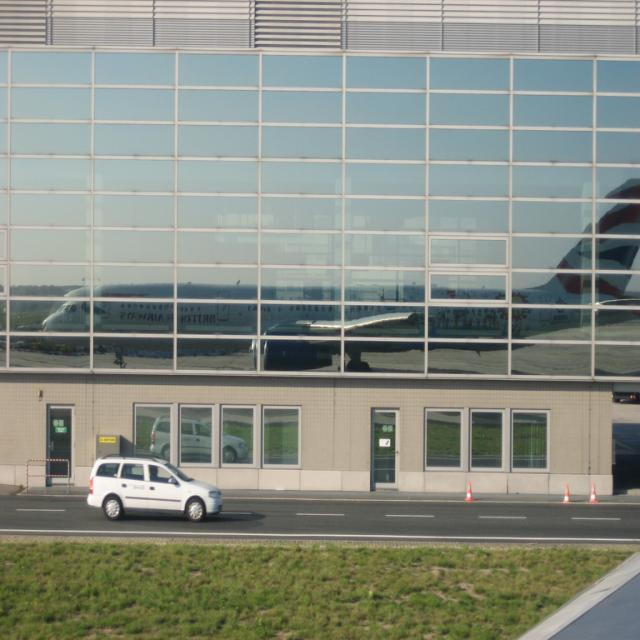car: (86, 451, 223, 519)
